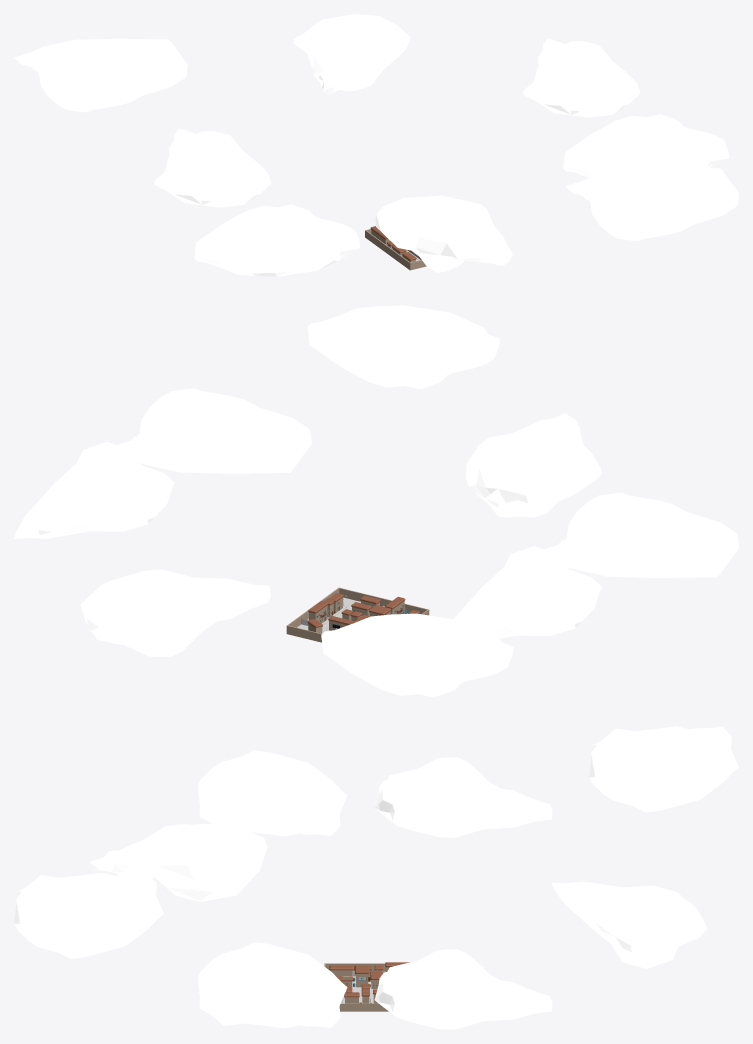
Rendered from Level_2.glb.
3 renders of one model, top to bottom at view 1: azimuth 30°, elevation 25°; view 2: azimuth 150°, elevation 25°; view 3: azimuth 270°, elevation 25°, orthographic. The views are drawn at different scales.
Visible parts, largest first — view 1: Cloud.008, Cloud.004, Cloud.001, Cloud.003, Cloud.005, Cloud.006, Cloud.002, Cloud.007; view 2: Cloud.005, Cloud.001, Cloud.008, Cloud.004, Cloud.007, Cloud.003, Cloud.006, Cloud.002; view 3: Cloud.005, Cloud.008, Cloud.004, Cloud.001, Cloud.002, Cloud.006, Cloud.003, Cloud.007.
Boxes of the visible parts, box(x1,y1,x2,y2) form: Cloud.008: box(565, 167, 738, 240); Cloud.004: box(14, 38, 187, 112); Cloud.001: box(194, 204, 360, 276); Cloud.003: box(374, 195, 512, 272); Cloud.005: box(563, 114, 729, 177); Cloud.006: box(523, 38, 640, 117); Cloud.002: box(154, 128, 271, 207); Cloud.007: box(293, 14, 410, 94); Cloud.005: box(118, 388, 311, 473); Cloud.001: box(545, 492, 738, 577); Cloud.008: box(307, 305, 499, 389); Cloud.004: box(321, 613, 513, 697); Cloud.007: box(80, 569, 270, 656); Cloud.003: box(466, 413, 601, 517); Cloud.006: box(14, 442, 174, 538); Cloud.002: box(453, 546, 601, 638); Cloud.005: box(197, 942, 347, 1028); Cloud.008: box(14, 872, 163, 958); Cloud.004: box(589, 726, 738, 812); Cloud.001: box(197, 750, 347, 836); Cloud.002: box(374, 757, 552, 837); Cloud.006: box(374, 949, 552, 1029); Cloud.003: box(90, 823, 267, 901); Cloud.007: box(551, 881, 707, 968).
Size of what is drawn, in the model's own units: 550 by 139 by 634.
32 materials, 5 textured.
